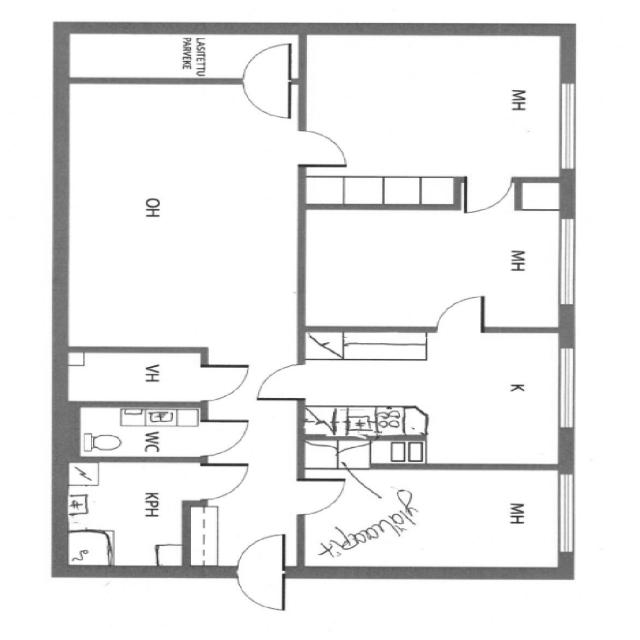door: (232, 528, 289, 615), (236, 42, 296, 123), (426, 289, 491, 340), (291, 123, 358, 171), (188, 358, 255, 404), (250, 356, 314, 404), (189, 416, 253, 460), (190, 458, 251, 502), (458, 173, 516, 217), (290, 475, 349, 517)
window: (548, 76, 588, 176), (552, 212, 583, 311), (553, 342, 582, 436), (551, 471, 580, 559)
zone: (64, 84, 301, 356), (299, 30, 571, 200), (300, 330, 569, 464), (300, 200, 566, 334), (294, 457, 566, 576), (62, 458, 202, 572), (299, 326, 428, 439), (61, 348, 212, 406), (71, 403, 208, 461)
